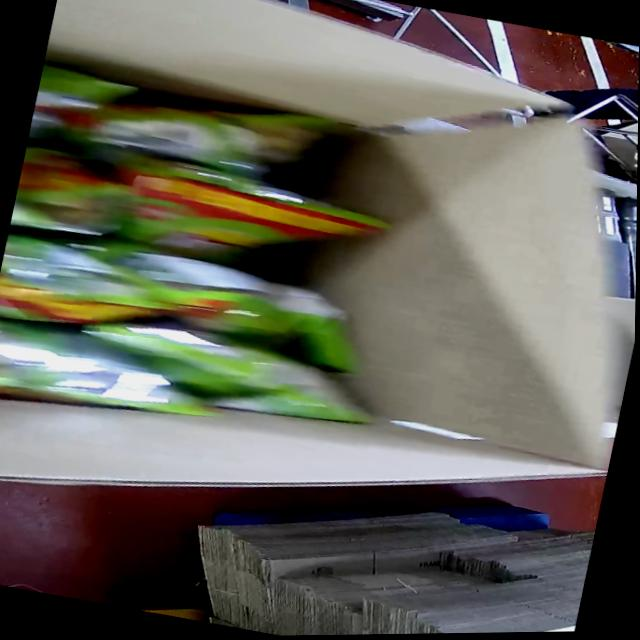YOGURT_HERB: (0, 62, 413, 458)
